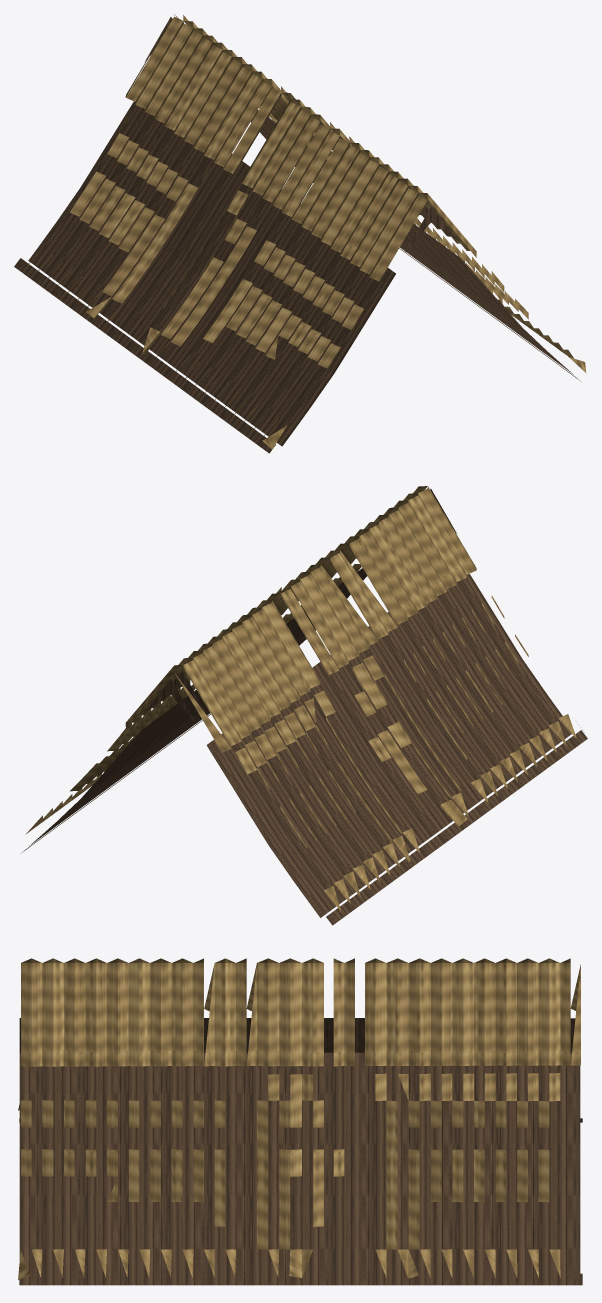
File: Roof_Thatch_8x12_LOD1.gltf
3 views of the same model, one above another, from view 1: azimuth 30°, elevation 25°; view 2: azimuth 150°, elevation 25°; view 3: azimuth 270°, elevation 25° (orthographic). The views are drawn at different scales.
Parts seen in each view (by area): view 1: Roof_Thatch_8x12_LOD1; view 2: Roof_Thatch_8x12_LOD1; view 3: Roof_Thatch_8x12_LOD1.
Part boxes in pixels (left/top/right/bottom): Roof_Thatch_8x12_LOD1: left=14, top=14, right=586, bottom=453; Roof_Thatch_8x12_LOD1: left=22, top=486, right=587, bottom=925; Roof_Thatch_8x12_LOD1: left=18, top=958, right=582, bottom=1285.
Bounding box in the file's own units: 9.95 × 6.54 × 13.89.
Materials: 2 (2 with a texture image).
